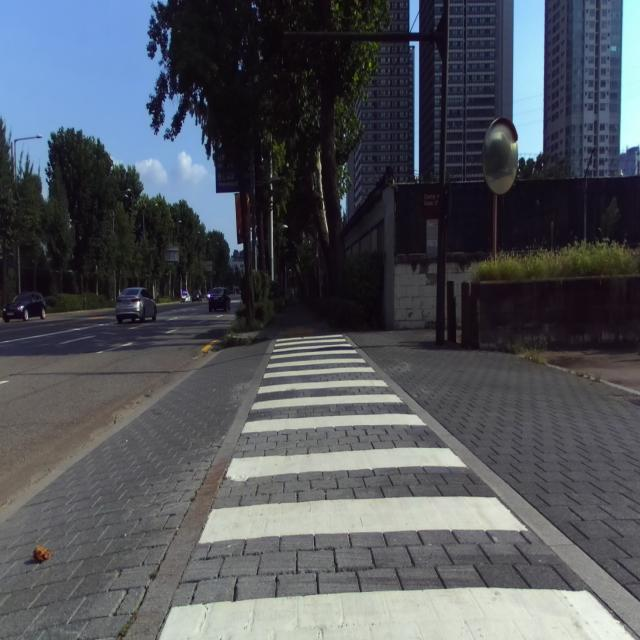횡단보도: (159, 333, 636, 640)
